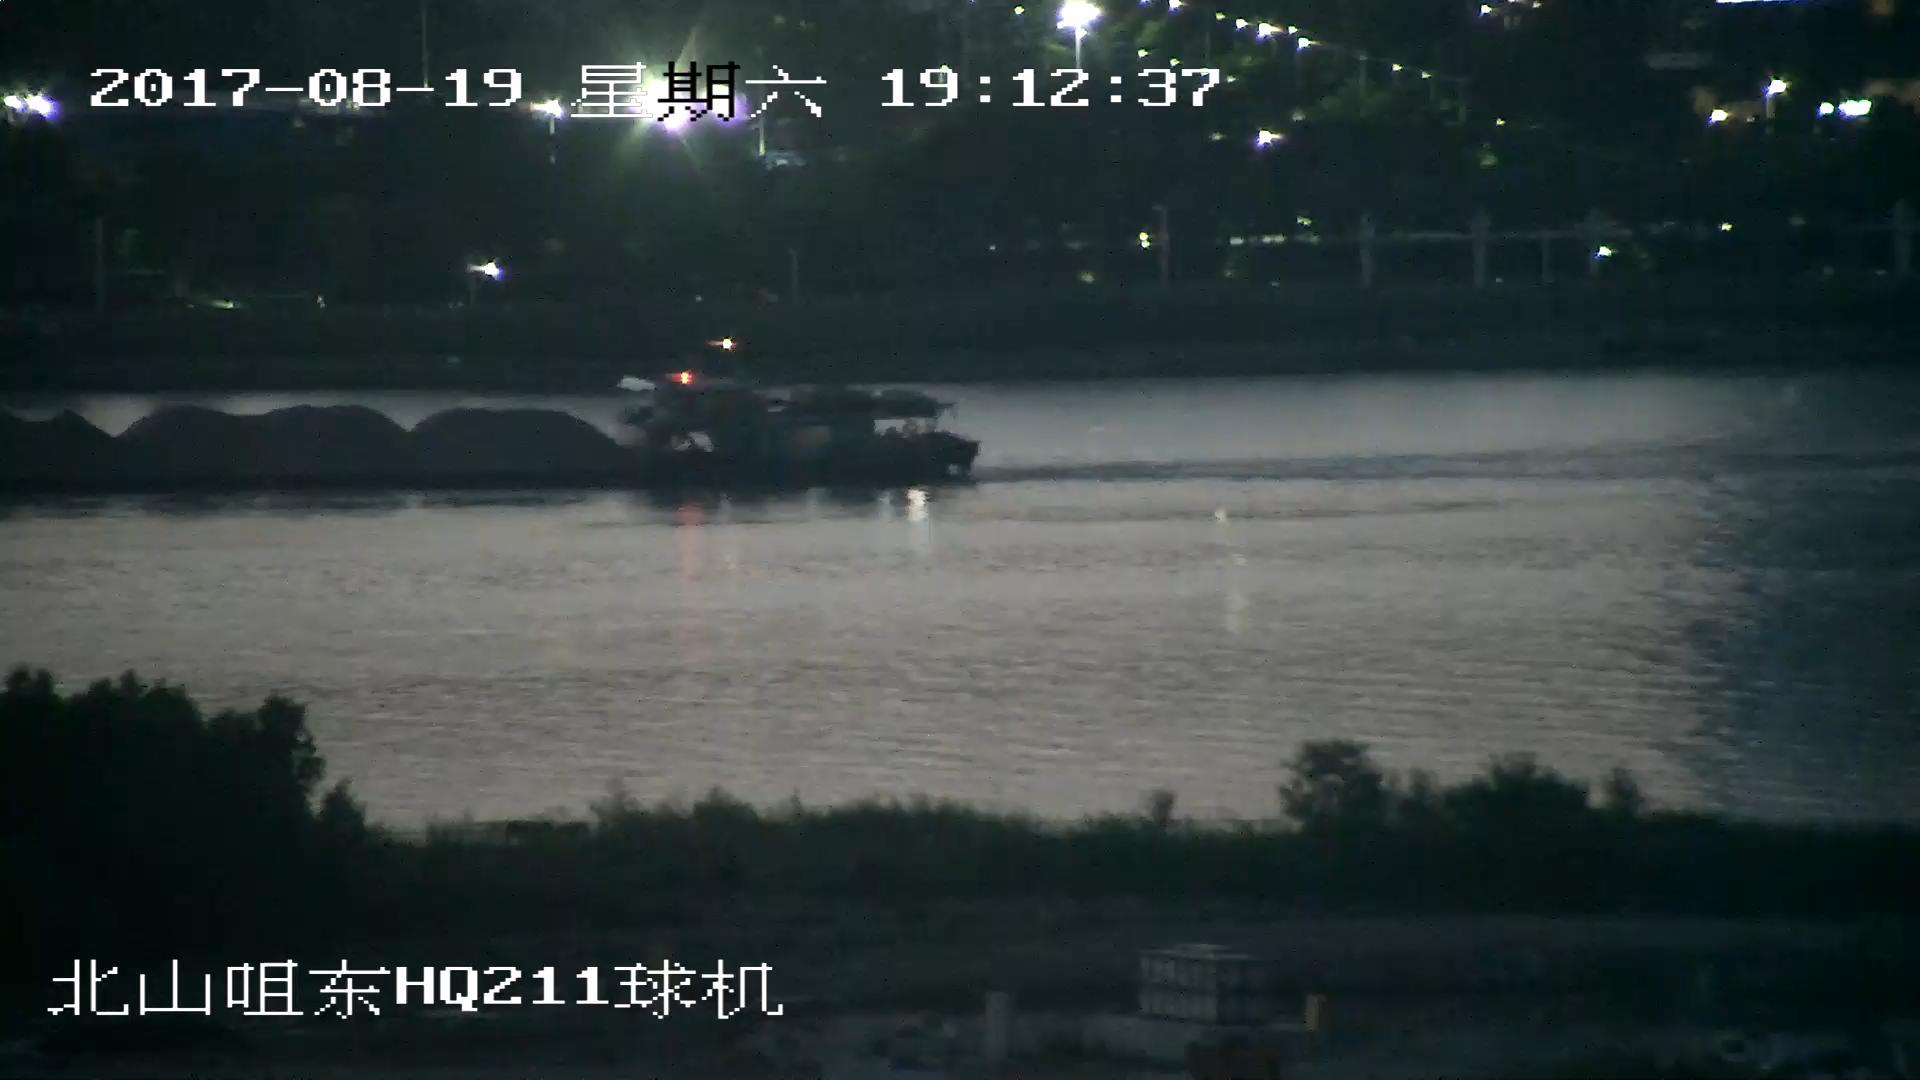Ship: (3, 360, 978, 502)
